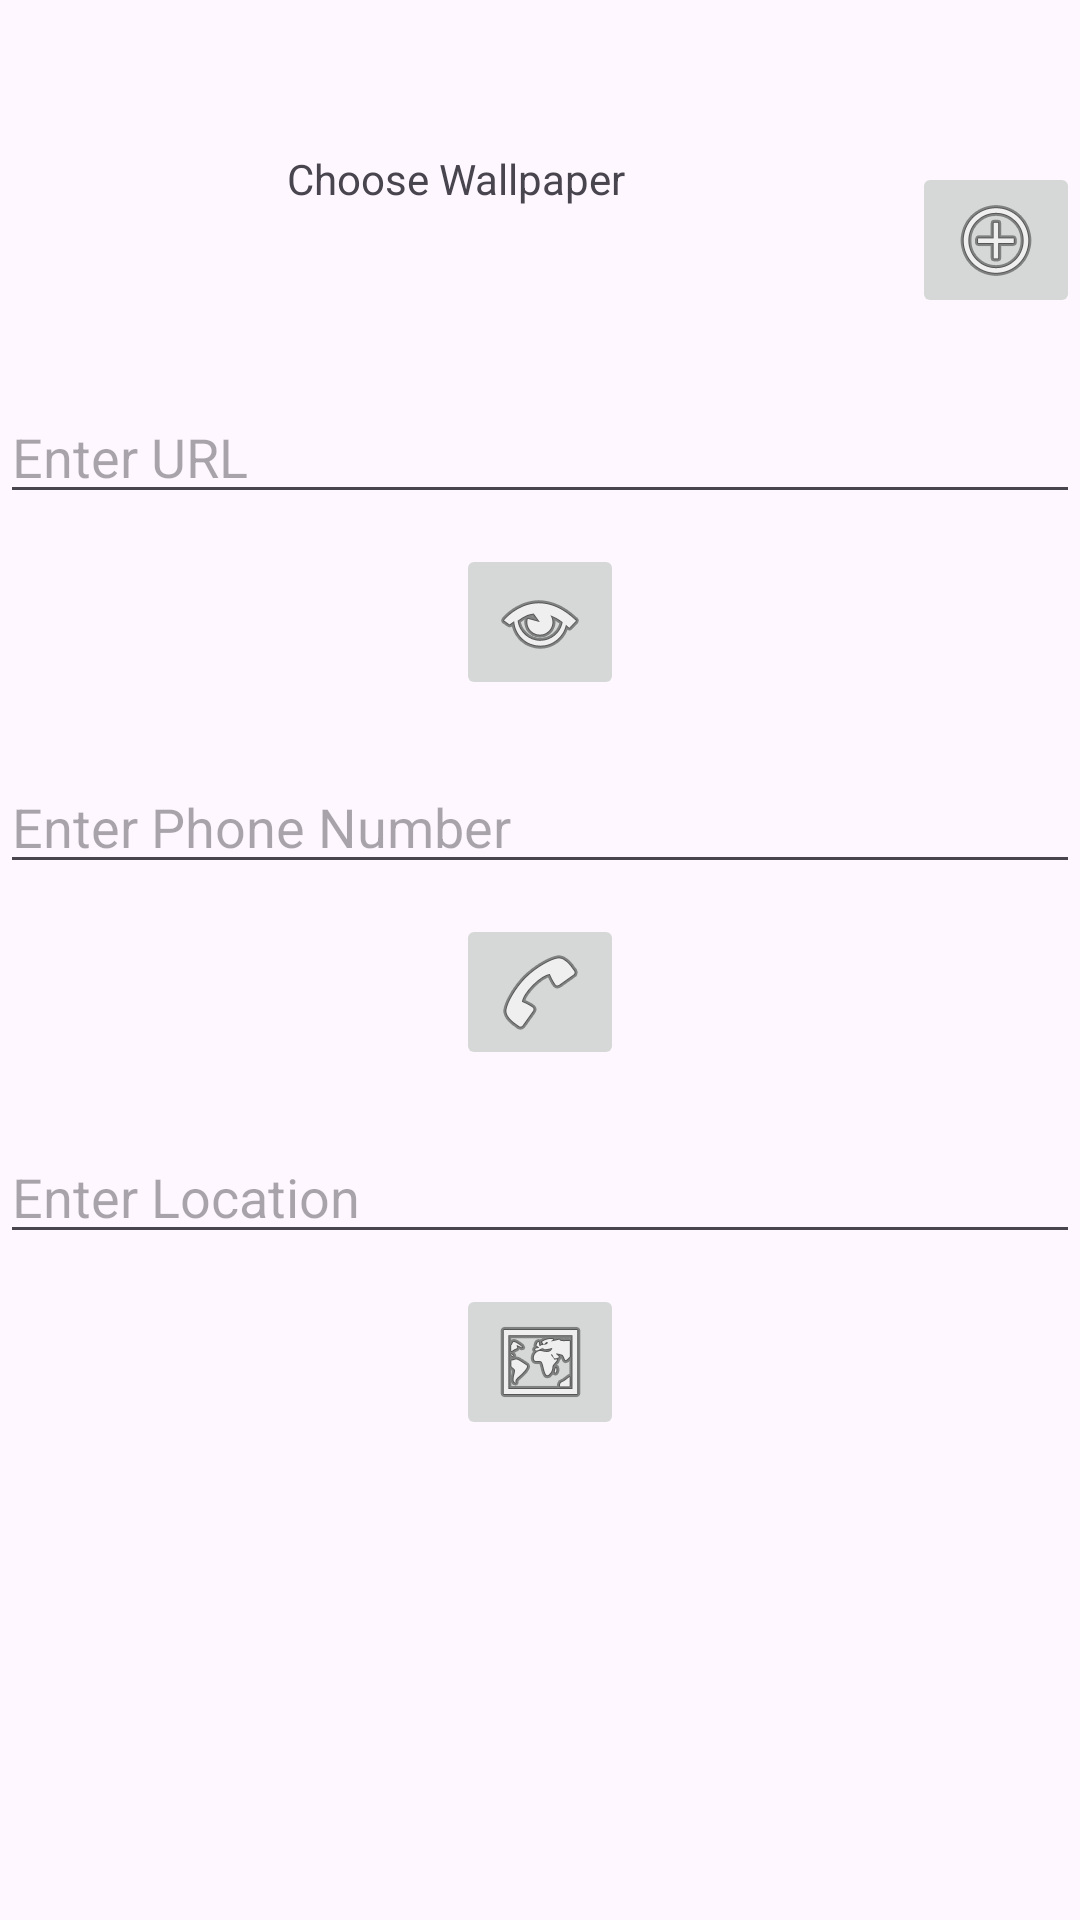

Locate icon controls on the screen. Image size 1080px×1920px, boxes as (x1, y1, x2, y2).
add: (924, 180, 1068, 300)
call: (468, 932, 612, 1052)
mapmode: (468, 1302, 612, 1422)
view: (468, 562, 612, 682)
